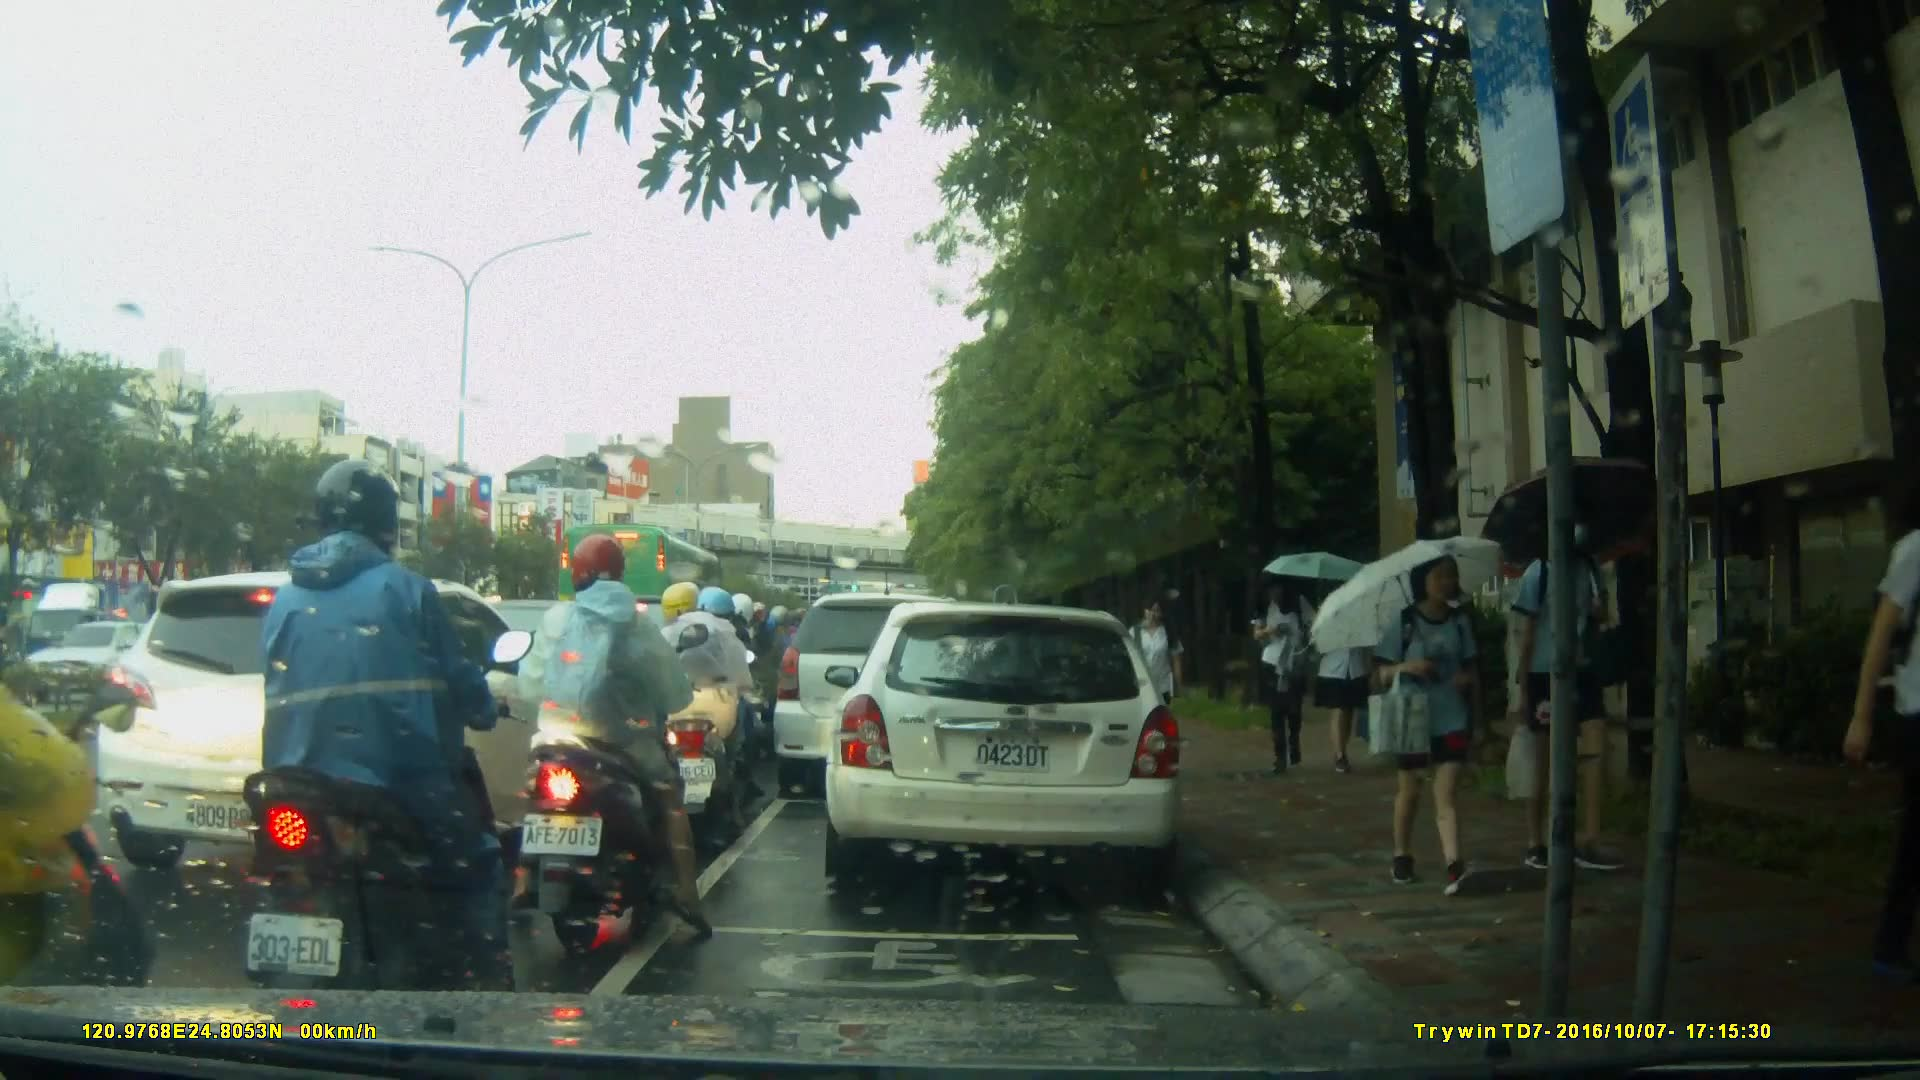pedestrian: (1508, 491, 1643, 880), (1355, 527, 1492, 910), (1837, 433, 1920, 983), (1307, 563, 1375, 778), (1254, 567, 1316, 775), (1125, 591, 1190, 770)
rider: (236, 463, 520, 1031), (515, 536, 738, 940), (632, 587, 770, 850), (673, 594, 764, 789)
vehicle: (93, 569, 617, 883), (822, 604, 1187, 883), (774, 595, 995, 802), (567, 524, 747, 659), (20, 576, 199, 697), (32, 618, 218, 712)
